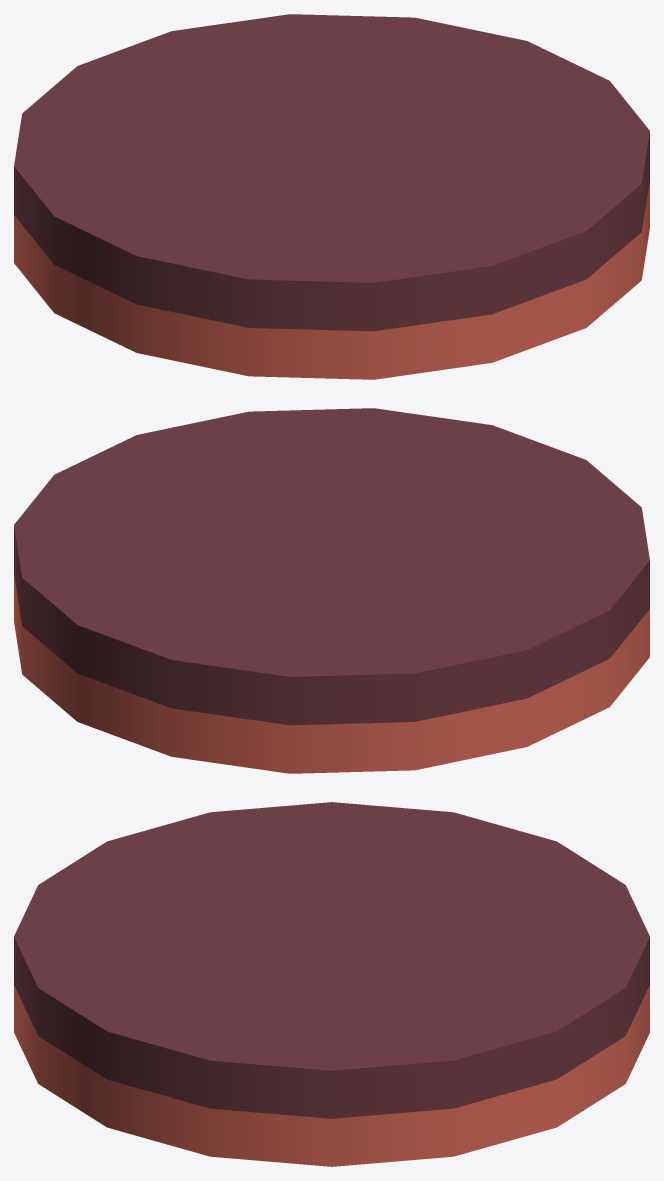
The model's file is ChairSeat2.fbx.
3 renders of one model, top to bottom at view 1: azimuth 30°, elevation 25°; view 2: azimuth 150°, elevation 25°; view 3: azimuth 270°, elevation 25°, orthographic.
Visible parts, largest first — view 1: ChairSeat2; view 2: ChairSeat2; view 3: ChairSeat2.
Part boxes in pixels (x1,y1,x2,y2): ChairSeat2: (14,14,649,379); ChairSeat2: (14,408,649,773); ChairSeat2: (14,802,649,1166).
Size of the model in its own units: 0.48 by 0.08 by 0.48.
